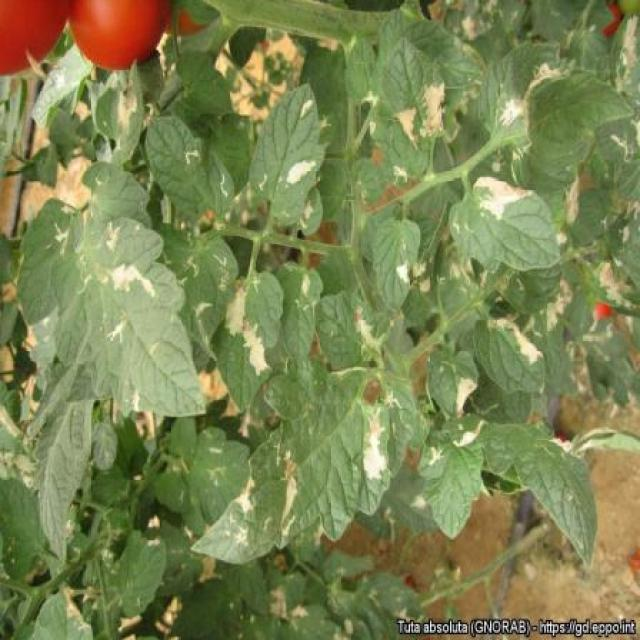Leaf Miner: (12, 160, 209, 420), (192, 356, 417, 567), (477, 34, 636, 150), (443, 177, 564, 283), (214, 262, 286, 414), (252, 80, 324, 221), (379, 35, 448, 152), (469, 312, 551, 405), (371, 214, 422, 319)
